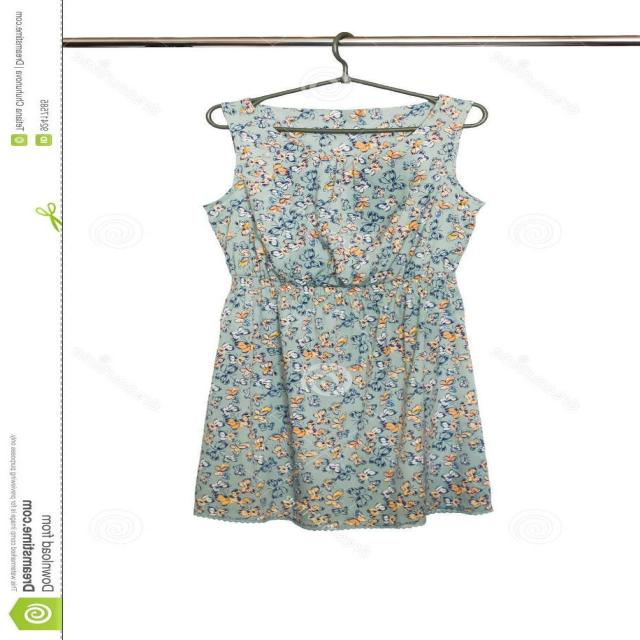Dress: (201, 96, 501, 533)
